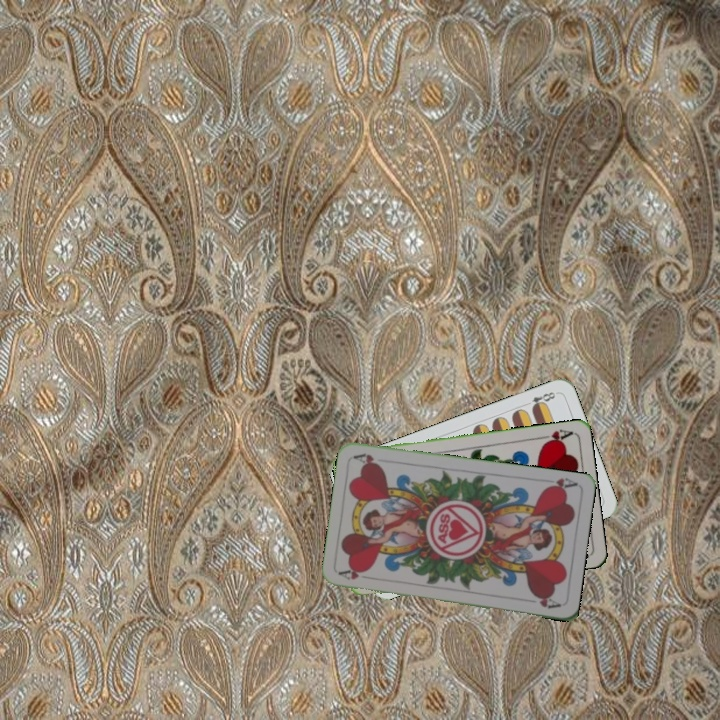E8: (520, 388, 560, 412)
HA: (534, 425, 575, 448), (540, 474, 580, 494), (336, 566, 376, 582)
